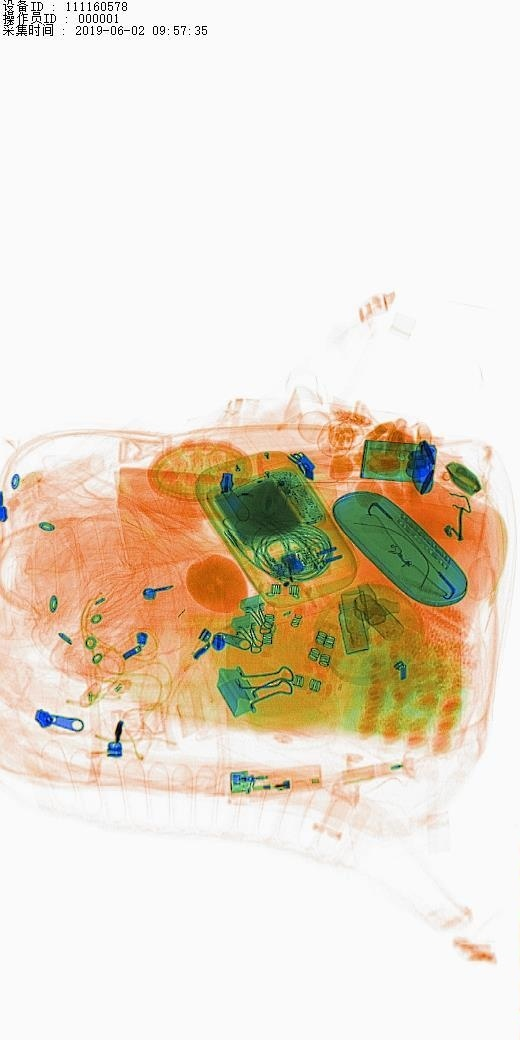NonmetallicFire: (213, 756, 334, 817)
